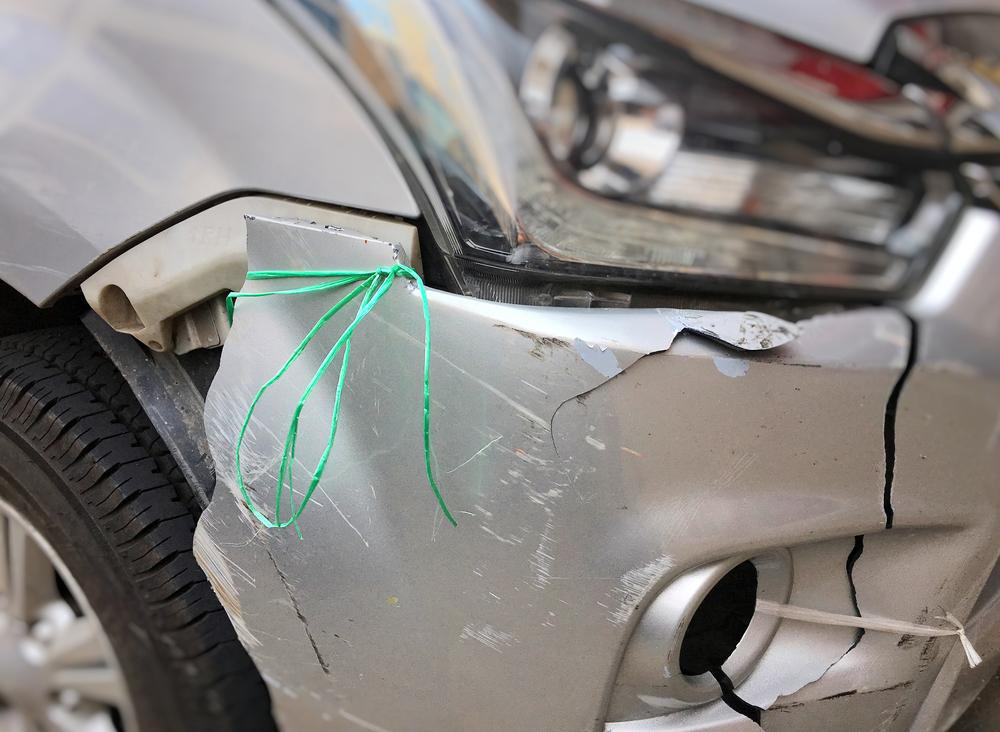crack: (707, 307, 922, 727), (548, 326, 802, 467)
scratch: (195, 368, 392, 732), (458, 367, 683, 653), (788, 608, 952, 732)
